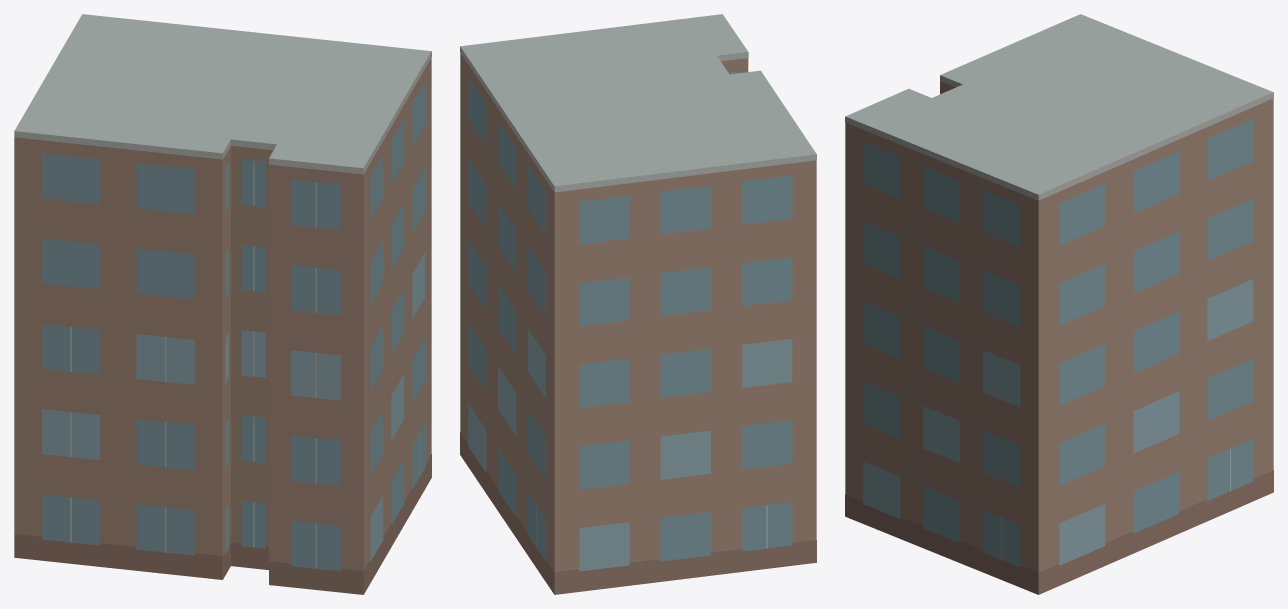
The model's file is survey-upis-32890846.glb.
The picture shows the model from 3 angles, left to right: view 1: azimuth 30°, elevation 25°; view 2: azimuth 150°, elevation 25°; view 3: azimuth 270°, elevation 25°; orthographic projection. The views are drawn at different scales.
Visible parts, largest first — view 1: survey-upis-32890846.tmp; view 2: survey-upis-32890846.tmp; view 3: survey-upis-32890846.tmp.
Boxes of the visible parts, x1,y1,x2,y2 form: survey-upis-32890846.tmp: (14,14,431,594); survey-upis-32890846.tmp: (460,14,816,594); survey-upis-32890846.tmp: (845,14,1273,594).
Size of the model in its own units: 16.09 by 16.6 by 16.12.
